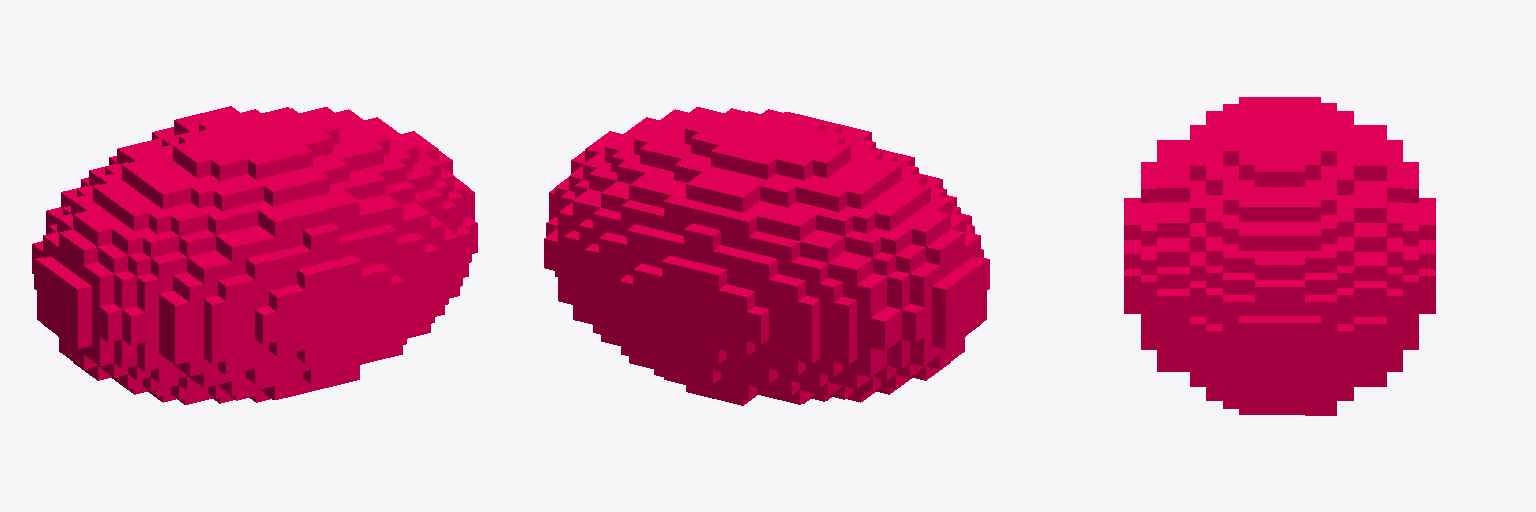
3 views of the same model, side by side, from view 1: azimuth 30°, elevation 25°; view 2: azimuth 150°, elevation 25°; view 3: azimuth 270°, elevation 25° (orthographic).
Visible parts, largest first — view 1: object 1; view 2: object 1; view 3: object 1.
Boxes of the visible parts, box(x1,y1,x2,y2) form: object 1: box(32, 106, 477, 404); object 1: box(544, 107, 989, 405); object 1: box(1124, 97, 1435, 415).
Size of the model in its own units: 2.8 by 1.6 by 1.9.
Materials: 1 (1 with a texture image).